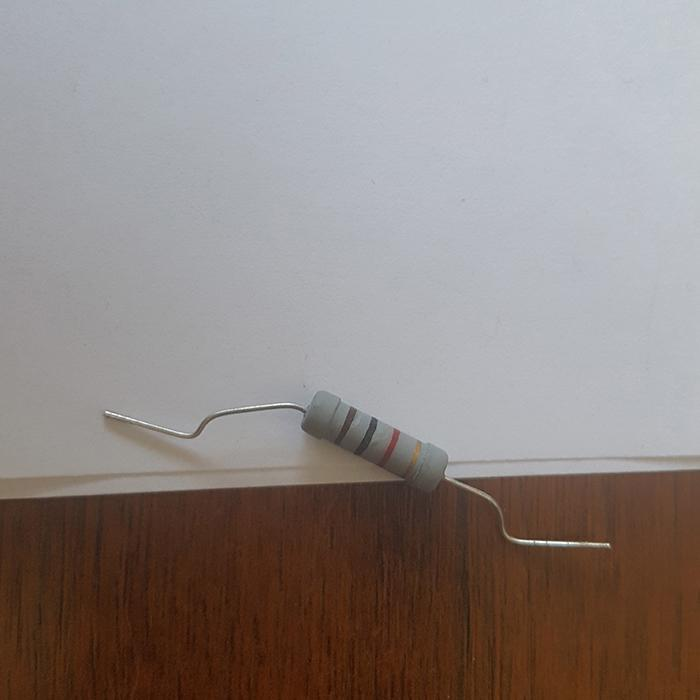resistor: (297, 388, 449, 490)
